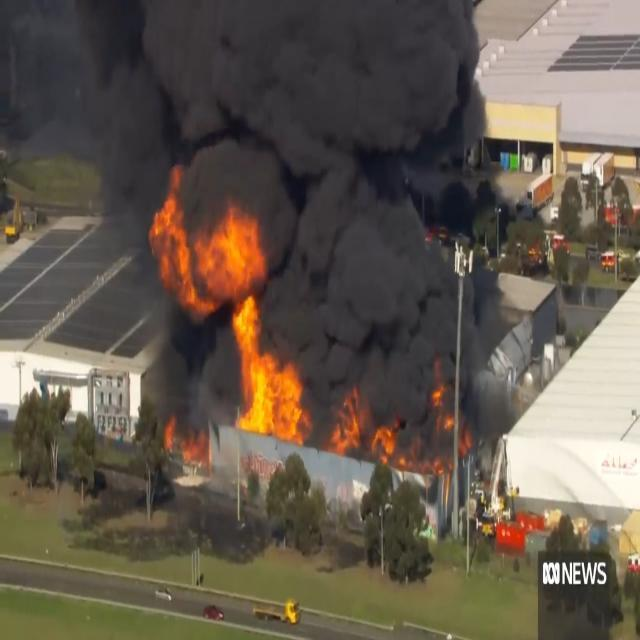fire: (146, 190, 272, 437), (327, 396, 365, 457), (408, 414, 443, 480), (277, 367, 306, 442), (373, 429, 398, 467), (430, 386, 450, 408)
